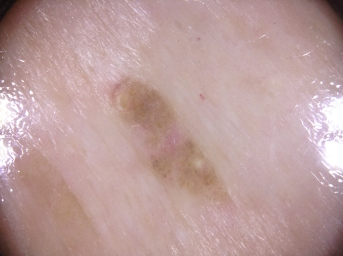seborrheic keratosis: (91, 68, 240, 217)
